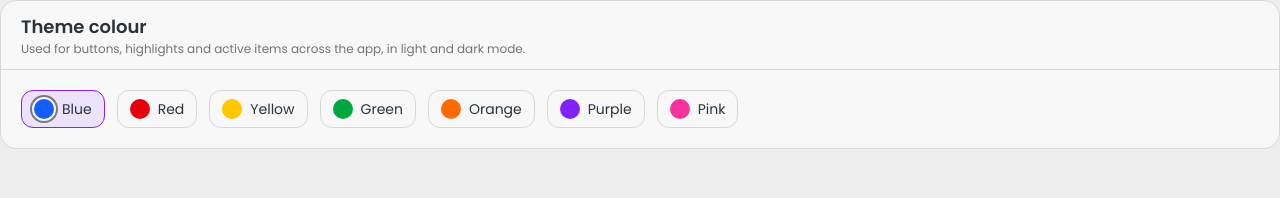
Test: ThemeColourPicker › puts the saved colour back if the last save fails
Click the radio button labelled "Red" at (157, 109), box top-left (117, 90), bottom-right (197, 128)
Wait 400 ms
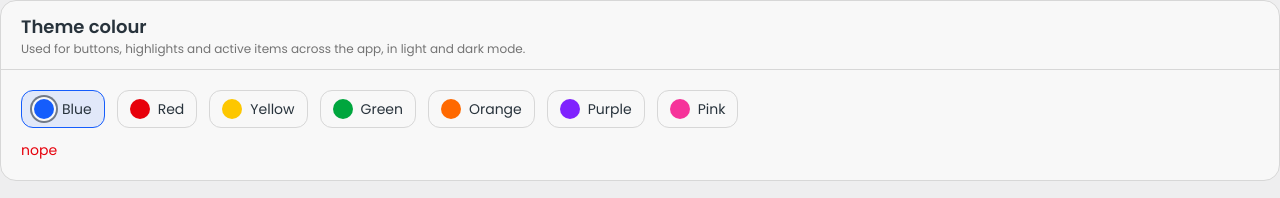
Check: the radio button labelled "Blue" is checked, box top-left (21, 90), bottom-right (105, 128)
Check: the message "nope" is shown, box top-left (21, 140), bottom-right (57, 160)
